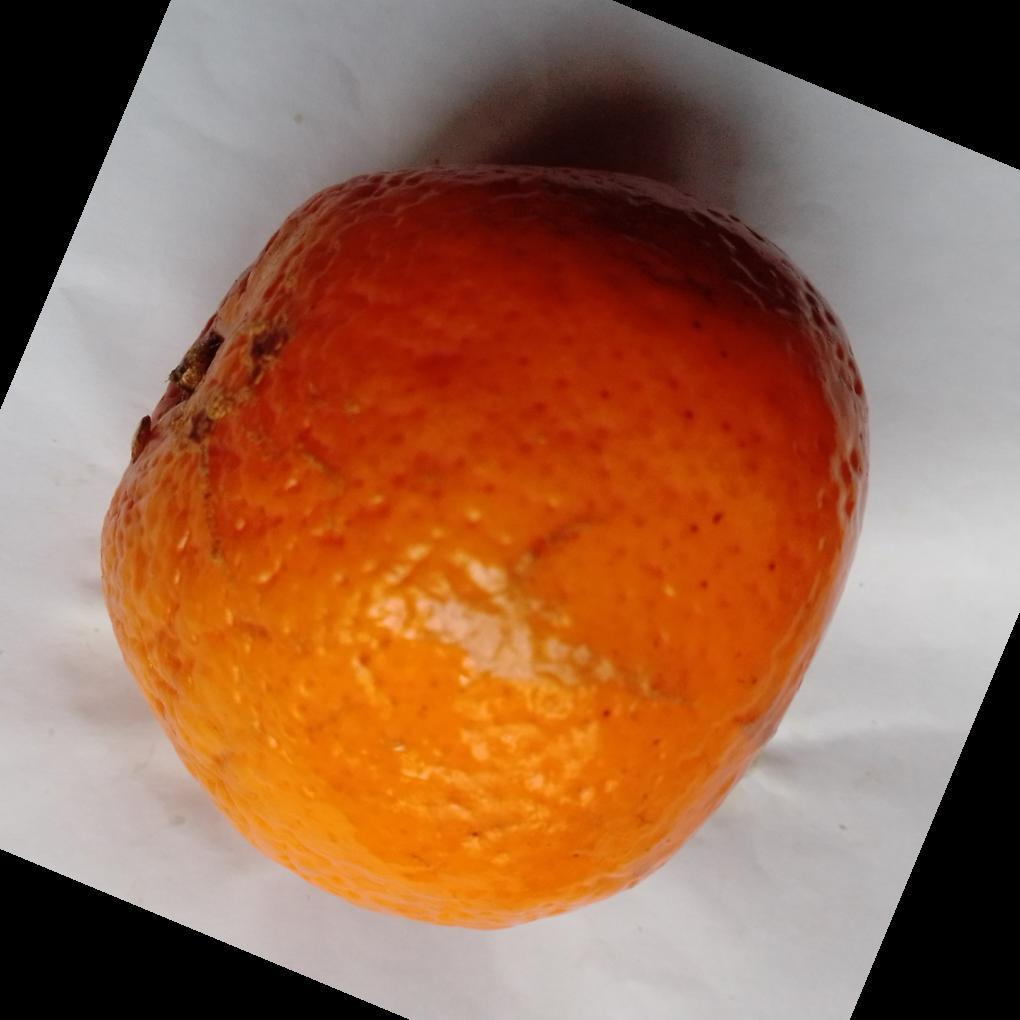FreshOrange: (97, 165, 872, 936)
